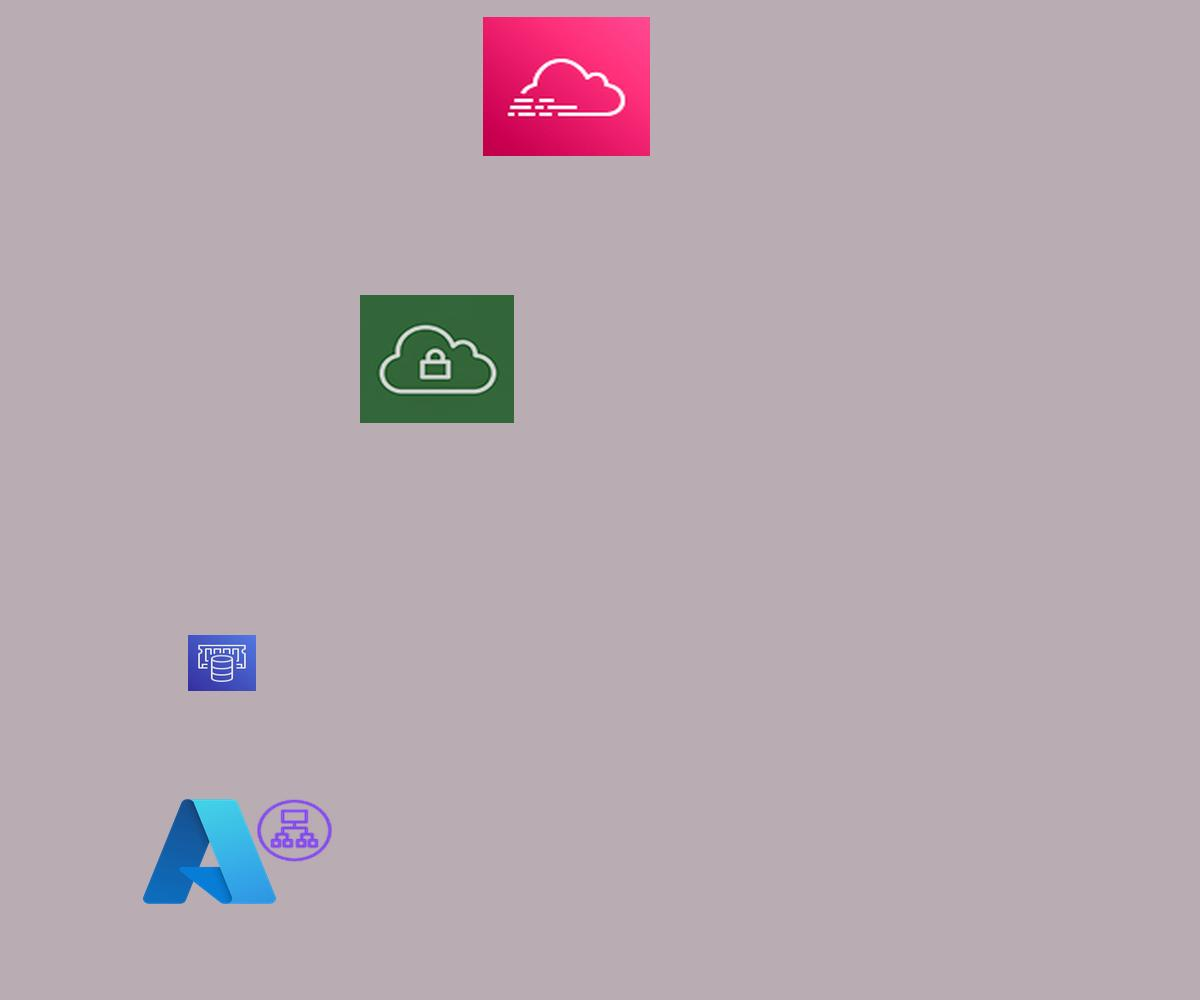AWS-CloudTrail: (483, 17, 650, 156)
AWS-ElastiCache: (188, 635, 256, 691)
AWS-Private_vpc: (360, 295, 514, 423)
AWS-Res_Elastic-Load-Balancing_Application-Load-Balancer: (254, 797, 335, 864)
Azure_services: (137, 791, 282, 912)
